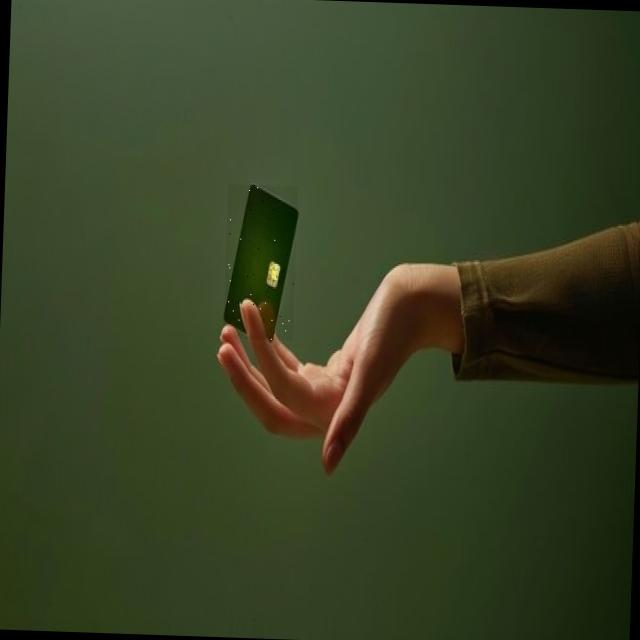payment_card: (221, 183, 299, 341)
